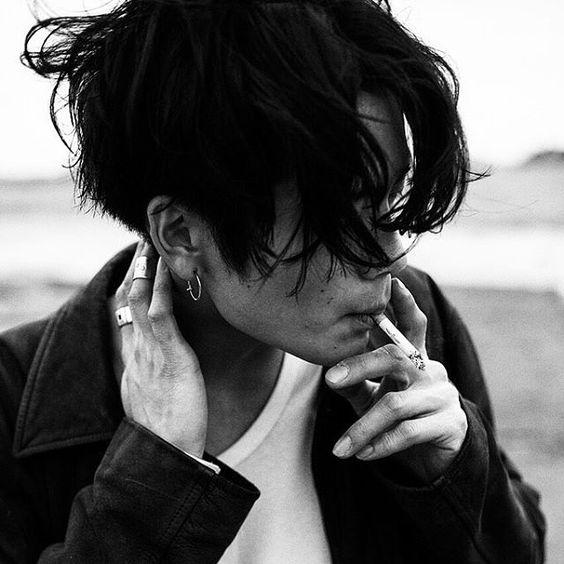cigarette: (369, 310, 426, 372)
